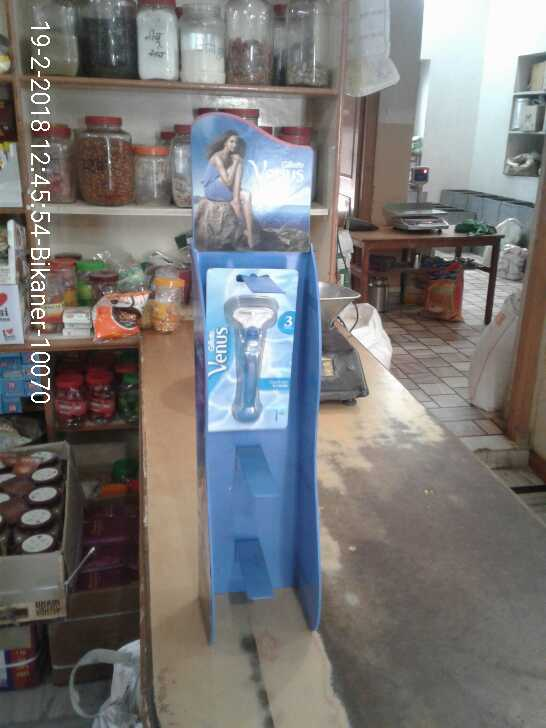venus: (208, 259, 299, 439)
